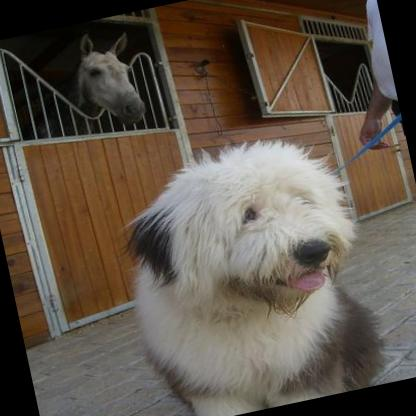Old_English_sheepdog: (107, 125, 382, 416)
